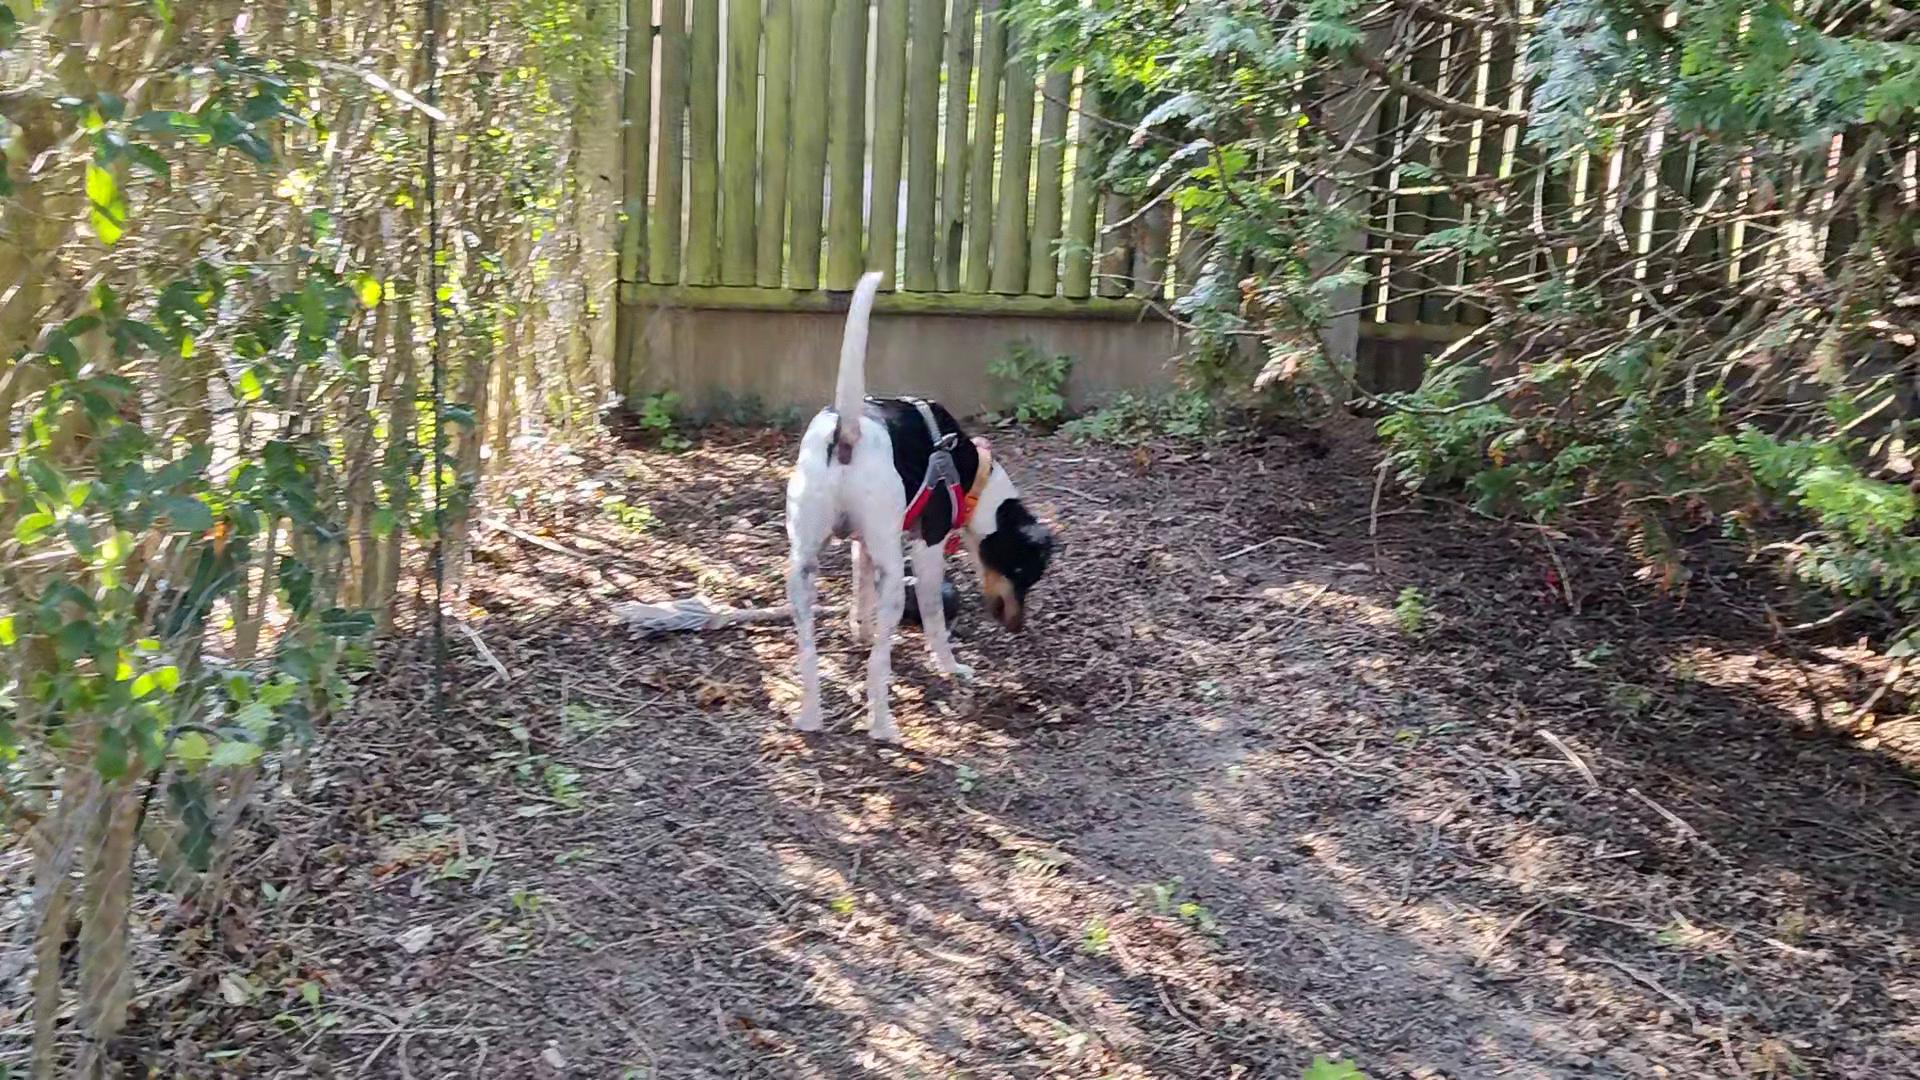Dog: (758, 257, 1067, 750)
